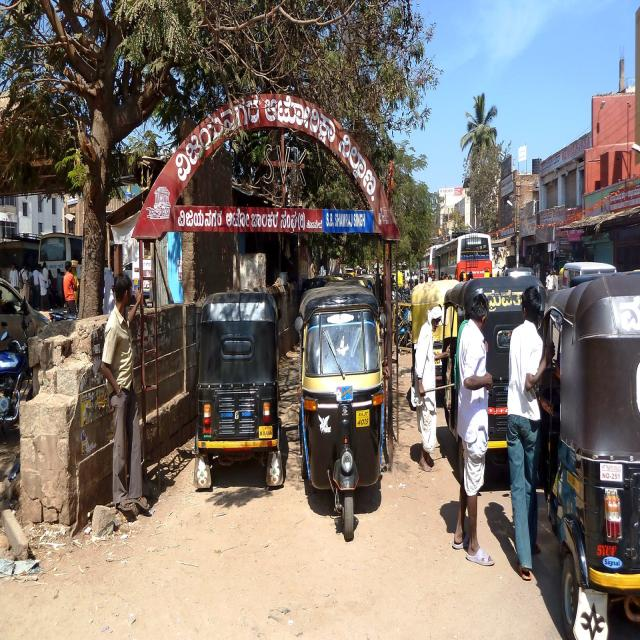autorickshaw: (540, 273, 640, 637), (295, 282, 385, 539), (195, 291, 282, 487), (440, 277, 526, 461), (442, 388, 465, 458)
